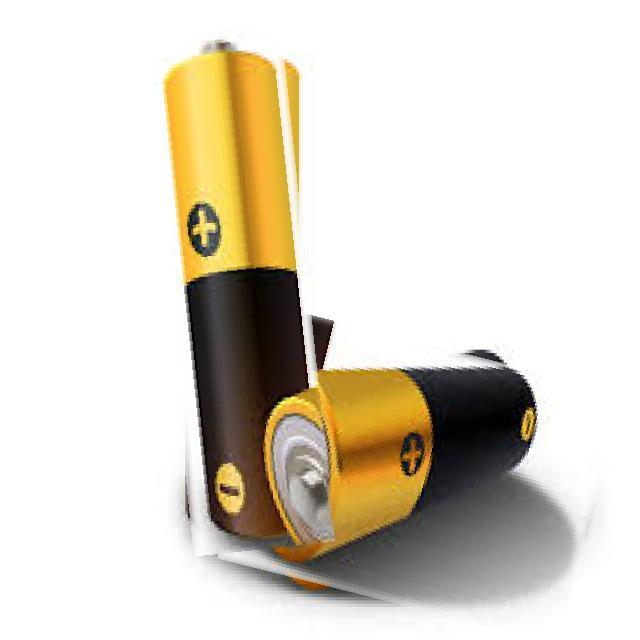Battery: (150, 27, 308, 552), (271, 368, 540, 544)
